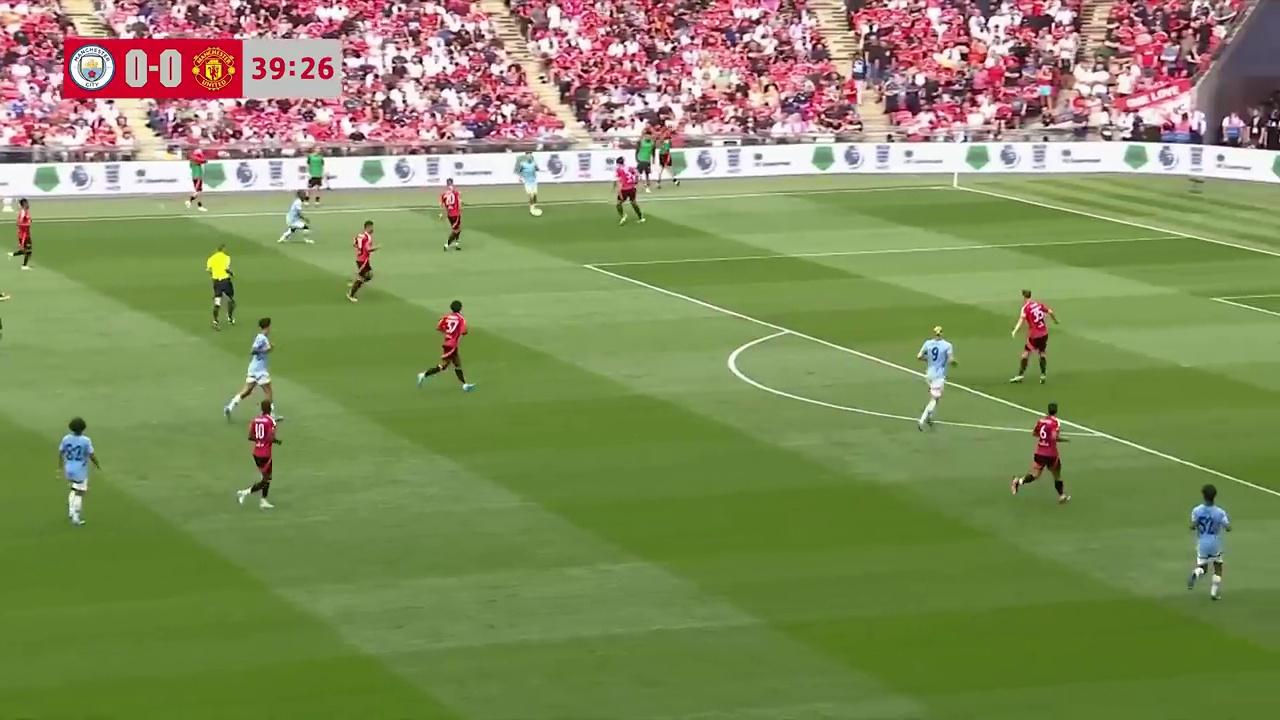ball: (531, 206, 542, 221)
player: (1012, 403, 1071, 506), (235, 399, 283, 509), (418, 300, 474, 392), (1188, 485, 1231, 599), (225, 319, 273, 417), (57, 418, 100, 526), (1011, 294, 1058, 383), (916, 326, 955, 431), (610, 154, 646, 224), (347, 220, 377, 303), (8, 199, 33, 270), (279, 194, 312, 244), (440, 181, 462, 252), (518, 154, 542, 216), (0, 283, 10, 349)
referee: (206, 243, 235, 329)
